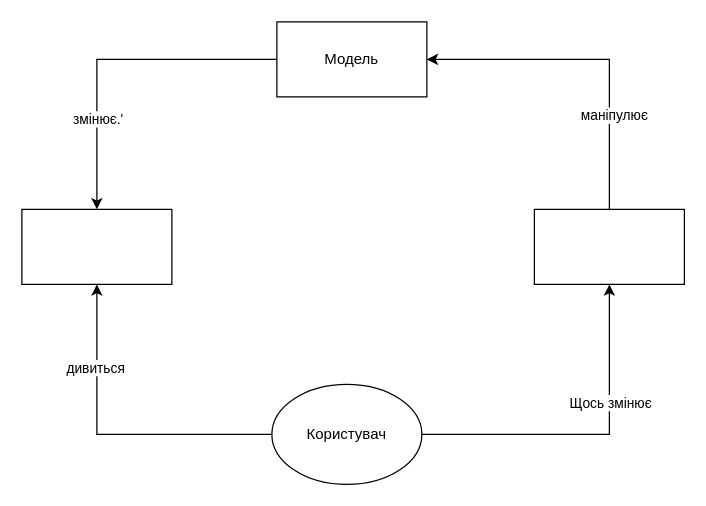
The diagram is 706 pixels wide and 506 high, and some of its shapes have lost their labels. The centre of each missing label's shape, as x and y in pixels:
"Вьюшка" goes at point 96,246.
"контроллер" goes at point 608,246.
